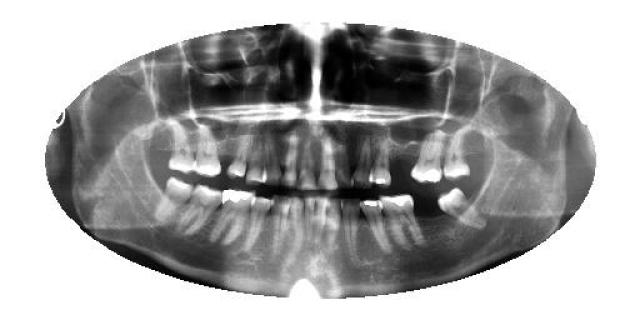Fillings: (206, 189, 254, 245), (382, 195, 420, 254), (411, 130, 445, 185), (360, 198, 392, 254)
